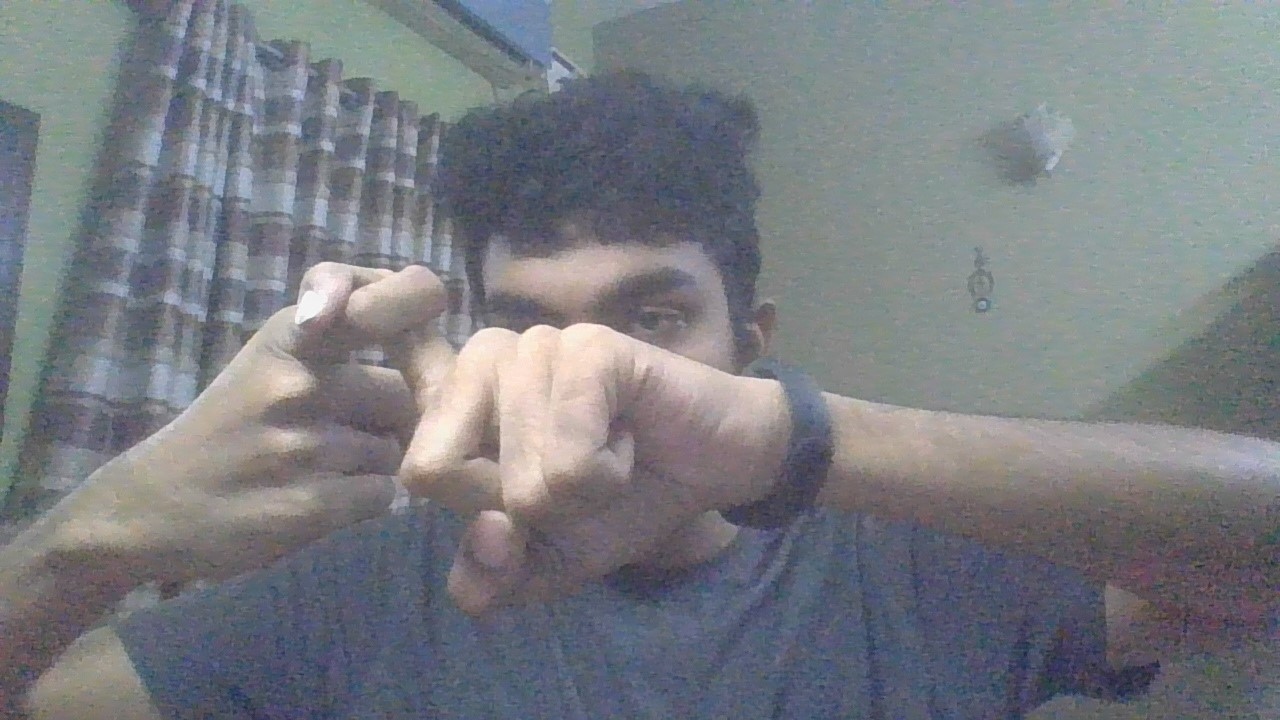Friends: (128, 260, 755, 631)
